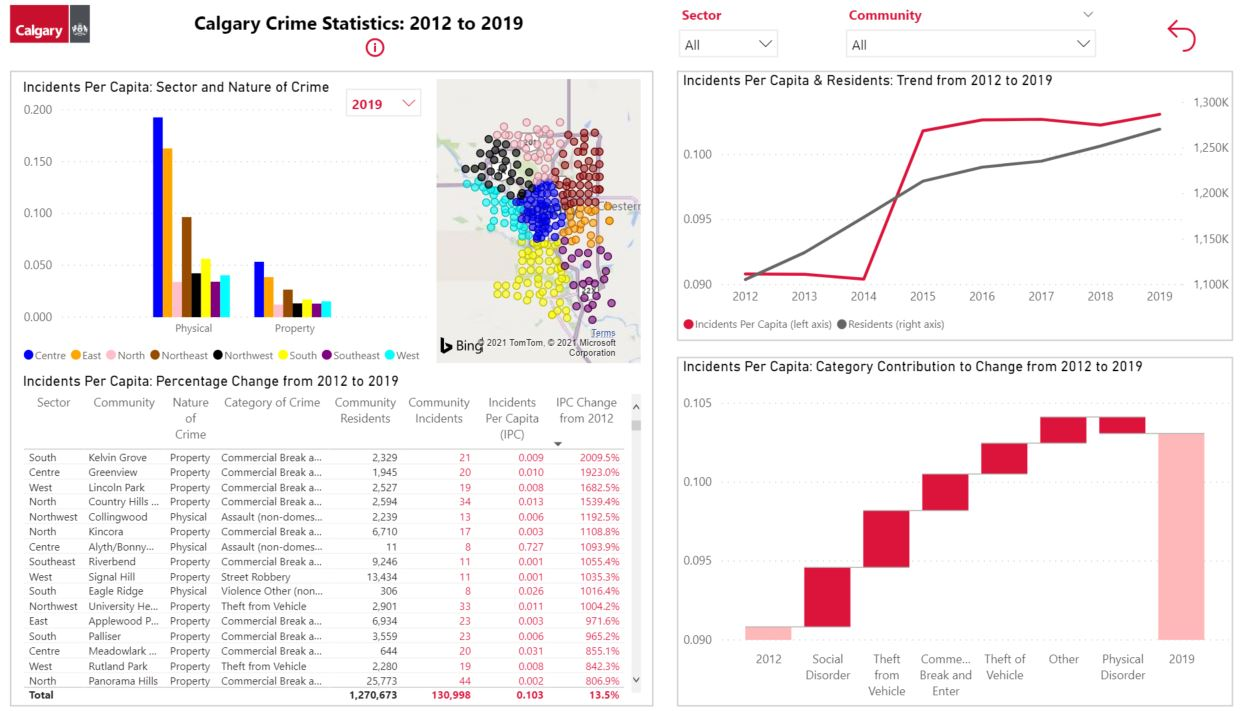

The page's visual inventory and layout, read from the dashboard file:
{"tool":"powerbi","page":{"name":"Calgary Crime Statistics from 2012 to 2019","canvas":[1280,720],"ordinal":0},"visuals":[{"type":"basicShape","box":[24,72,648,640],"z":0},{"type":"clusteredColumnChart","title":"Incidents Per Capita: Sector and Nature of Crime","fields":{"Y":["tbl_measures.03 - Incidents Per Capita"],"Series":["dim_communities.Sector"],"Category":["dim_crime_disorder.Nature"]},"box":[32,80,416,296],"z":1000},{"type":"textbox","box":[200,5,350,40],"z":2000},{"type":"actionButton","box":[112,24,560,48],"z":3000},{"type":"slicer","fields":{"Values":["dim_years.Year"]},"box":[352,80,96,64],"z":4000},{"type":"lineChart","title":"Incidents Per Capita & Residents: Trend from 2012 to 2019","fields":{"Y2":["tbl_measures.02 - Residents Total"],"Y":["tbl_measures.03 - Incidents Per Capita"],"Category":["dim_years.Year"]},"box":[696,72,560,272],"z":5000},{"type":"esriVisual","box":[528,448,16,176],"z":6000},{"type":"map","fields":{"Y":["dim_communities.Latitude"],"X":["dim_communities.Longitude"]},"box":[448,75,216,296],"z":7000},{"type":"tableEx","fields":{"Values":["dim_communities.Sector","dim_communities.Community","dim_crime_disorder.Nature","dim_crime_disorder.Category","tbl_measures.02 - Residents Total","tbl_measures.01 - Incidents Total","tbl_measures.03 - Incidents Per Capita","tbl_measures.07 - Incidents Per Capita Change from Base Year"]},"box":[32,376,632,336],"z":8000},{"type":"actionButton","box":[1160,16,88,40],"z":9000},{"type":"waterfallChart","title":"Incidents Per Capita: Category Contribution to Change from 2012 to 2019","fields":{"Category":["dim_years.Year"],"Breakdown":["dim_crime_disorder.Category"],"Y":["tbl_measures.03 - Incidents Per Capita"]},"box":[696,360,560,352],"z":10000},{"type":"image","box":[8,0,112,48],"z":11000},{"type":"slicer","fields":{"Values":["dim_communities.Sector"]},"box":[688,0,120,64],"z":12000},{"type":"slicer","fields":{"Values":["dim_communities.Community"]},"box":[856,0,272,64],"z":13000}]}

Visuals, with their boxes in screenshot pixels (x1, y1, x2, y2), scaled from the page's 1280x720 canvas onto the 1243x711 screenshot:
basicShape: <bbox>23, 71, 653, 703</bbox>
"Incidents Per Capita: Sector and Nature of Crime" clusteredColumnChart: <bbox>31, 79, 435, 371</bbox>
textbox: <bbox>194, 5, 534, 44</bbox>
actionButton: <bbox>109, 24, 653, 71</bbox>
slicer - dim_years.Year: <bbox>342, 79, 435, 142</bbox>
"Incidents Per Capita & Residents: Trend from 2012 to 2019" lineChart: <bbox>676, 71, 1220, 340</bbox>
esriVisual: <bbox>513, 442, 528, 616</bbox>
map - dim_communities.Latitude x dim_communities.Longitude: <bbox>435, 74, 645, 366</bbox>
tableEx - dim_communities.Sector x dim_communities.Community: <bbox>31, 371, 645, 703</bbox>
actionButton: <bbox>1126, 16, 1212, 55</bbox>
"Incidents Per Capita: Category Contribution to Change from 2012 to 2019" waterfallChart: <bbox>676, 356, 1220, 703</bbox>
image: <bbox>8, 0, 117, 47</bbox>
slicer - dim_communities.Sector: <bbox>668, 0, 785, 63</bbox>
slicer - dim_communities.Community: <bbox>831, 0, 1095, 63</bbox>
